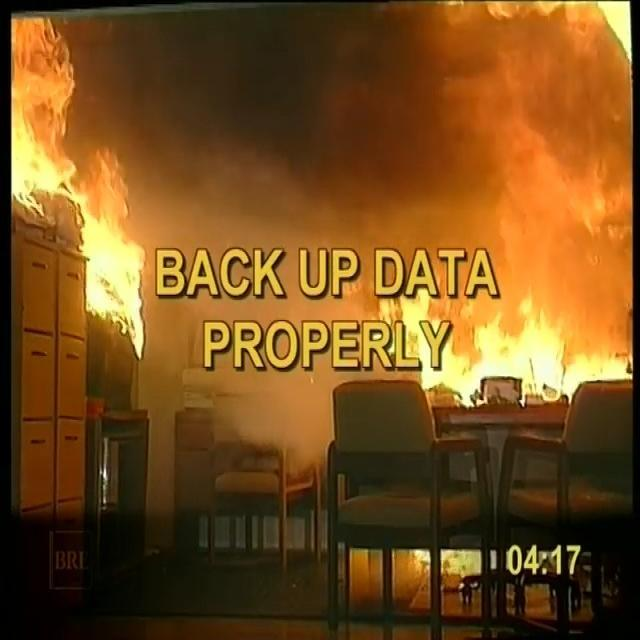Fire: (5, 6, 638, 404)
